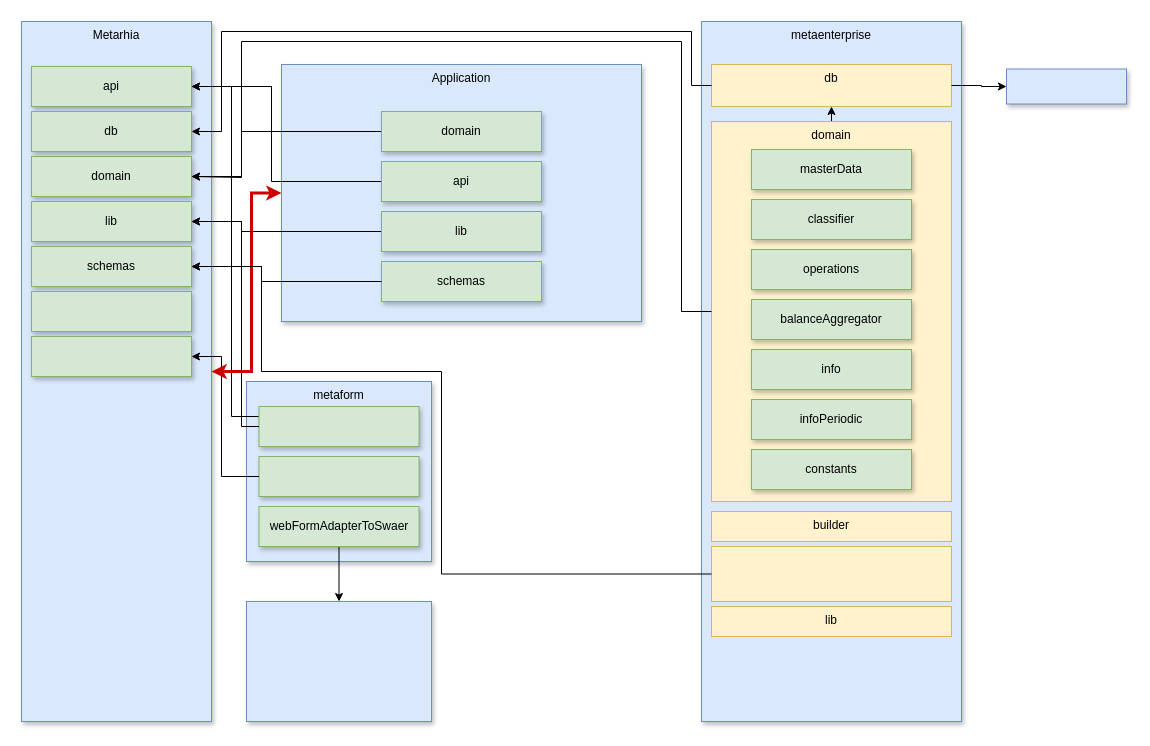
This 1150x746 diagram has some shape labels left out. The shapes that lost their labels are listed below. From the top down, each one's centre as x and y in pixels, then its label:
the point at 1067,87: postgresql
the point at 112,312: resources
the point at 112,358: static
the point at 339,428: backFormManager
the point at 339,478: webFormManager
the point at 831,574: predefinedSchemas Role, Account, SchemasConf
the point at 340,662: swayer
